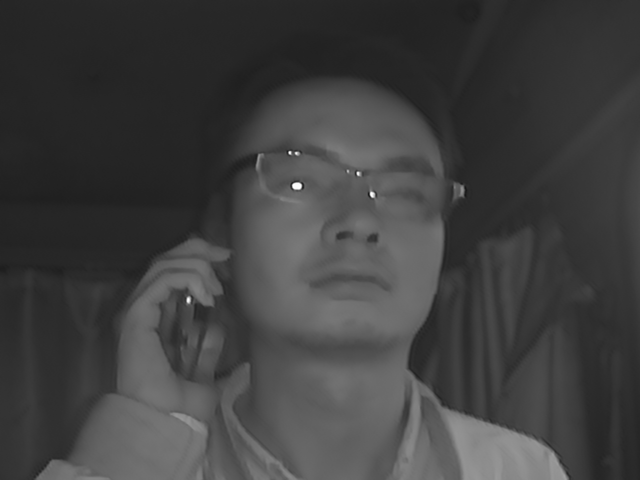hand: (111, 238, 240, 424)
